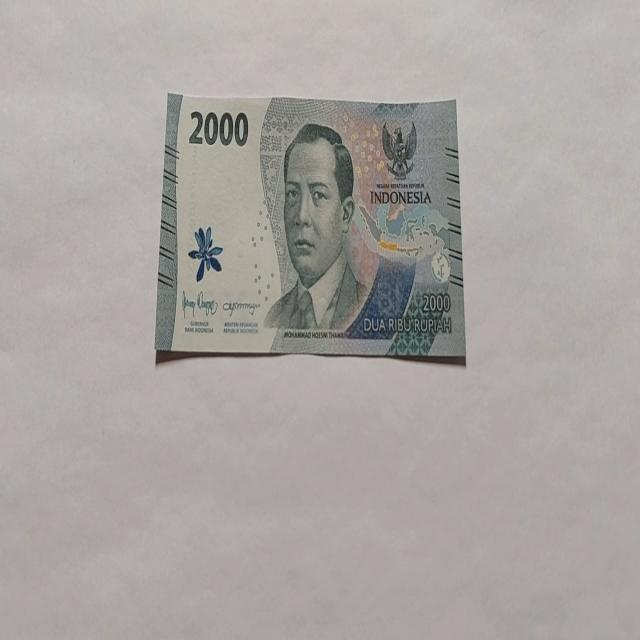dua ribu rupiah: (154, 90, 466, 364), (263, 120, 370, 334)
